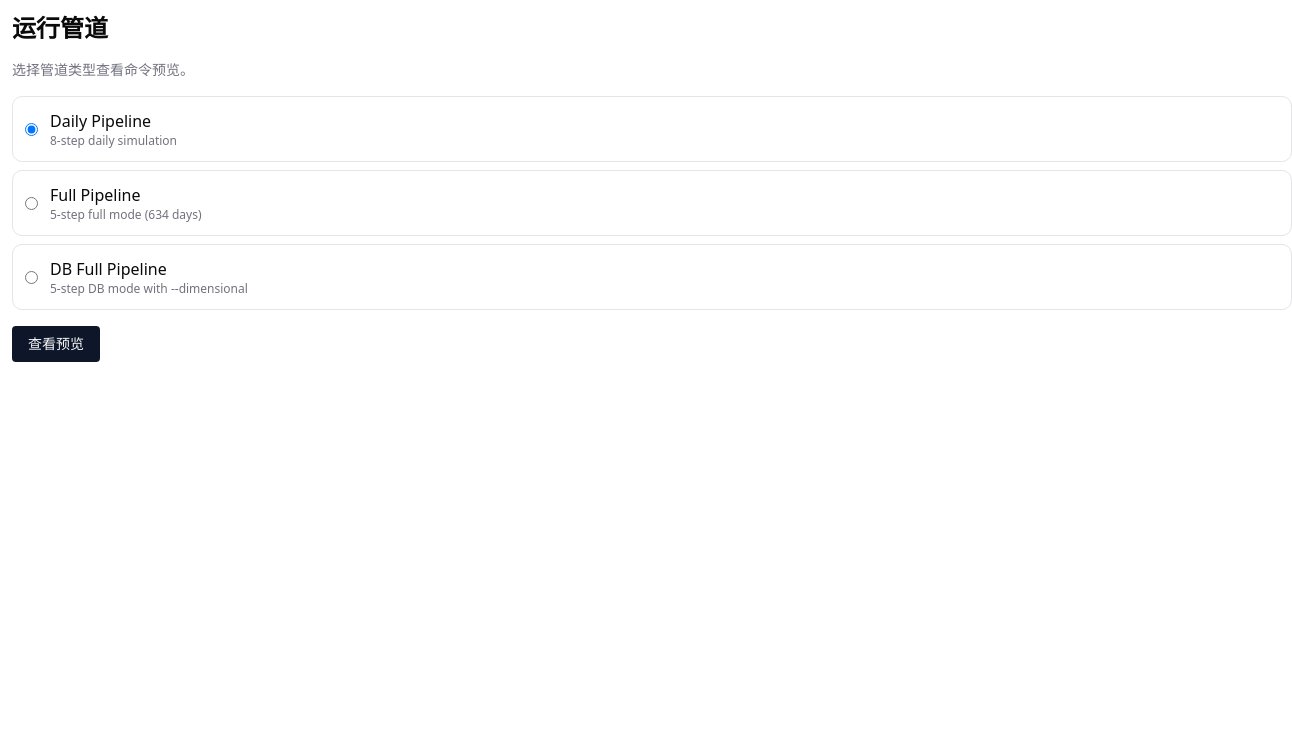
Test: Pipeline › shows result on successful mutation
This screenshot has width=1292, height=732.
Click the button "查看预览" at [56, 344], box 12,326 -> 100,362
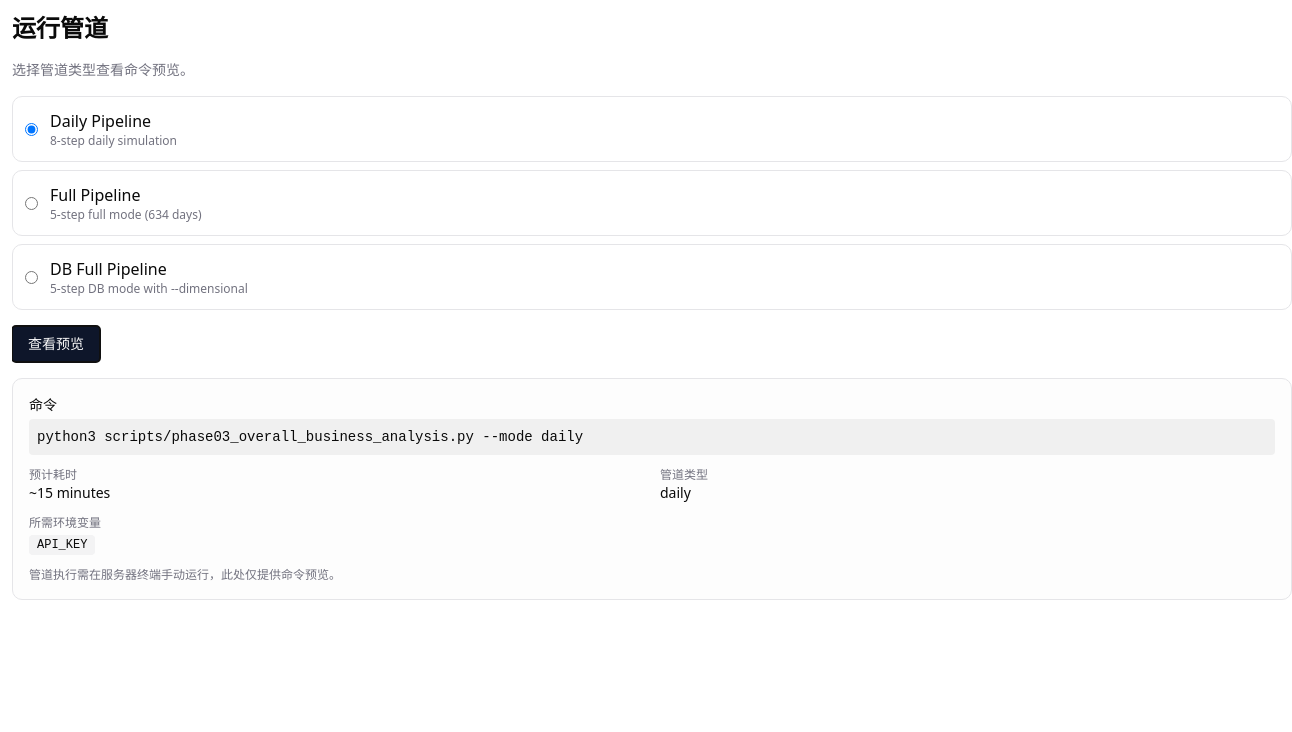
Expected: the text "python3 scripts/phase03_overall_business_analysis.py --mode daily" is shown, 29,419 -> 1275,455
Expected: the text "~15 minutes" is shown, 29,483 -> 110,502
Expected: the text "API_KEY" is shown, 29,535 -> 95,555
